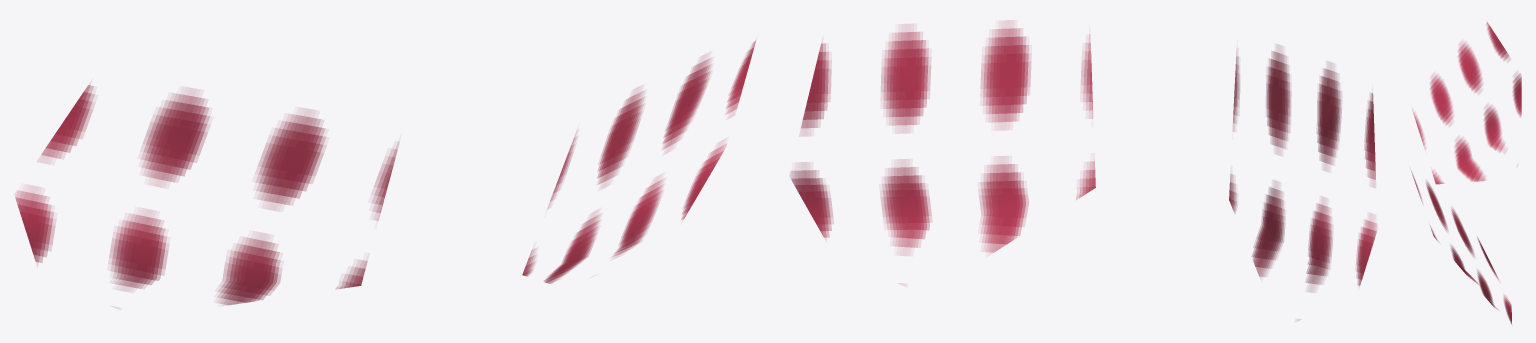
The picture shows the model from 3 angles, left to right: view 1: azimuth 30°, elevation 25°; view 2: azimuth 150°, elevation 25°; view 3: azimuth 270°, elevation 25°; orthographic projection. The views are drawn at different scales.
Parts seen in each view (by area): view 1: ef_509; view 2: ef_509; view 3: ef_509.
Part boxes in pixels (box(x1,y1,x2,y2)): ef_509: box(15, 41, 755, 307); ef_509: box(790, 20, 1376, 320); ef_509: box(1411, 22, 1521, 324).
Bounding box in the file's own units: 0.5542 × 0.2747 × 0.1582.
1 material, 1 textured.
